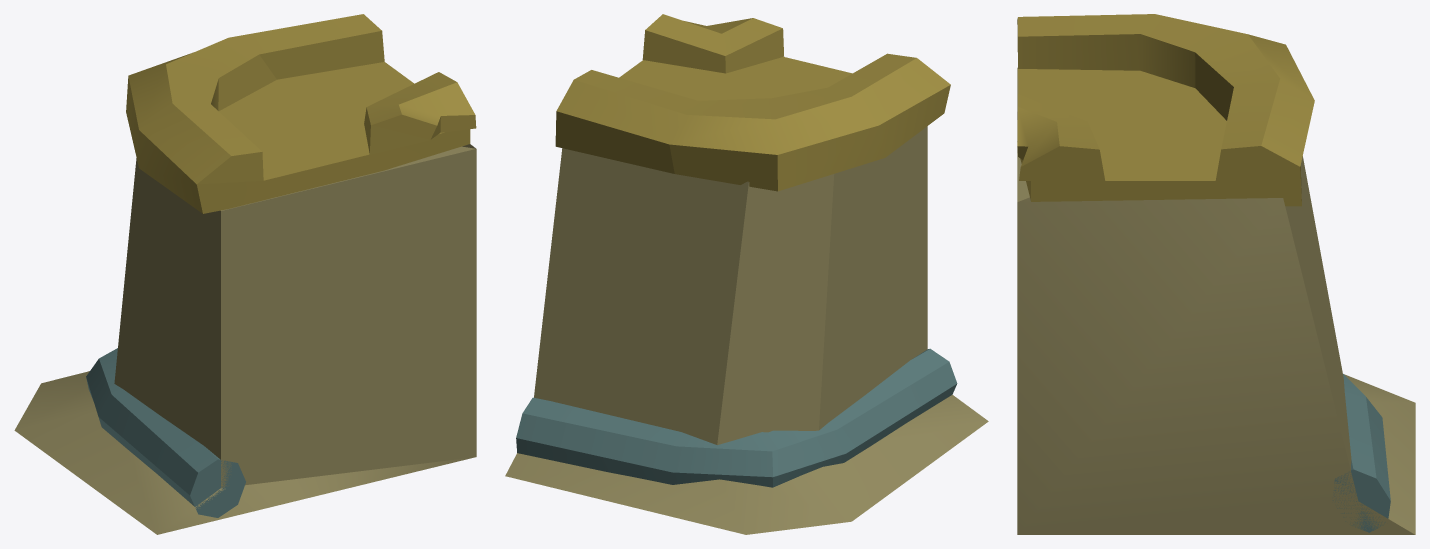
The model's file is Int_15_2_Wall_Right_Down_Diagonal.fbx.
3 views of the same model, side by side, from view 1: azimuth 30°, elevation 25°; view 2: azimuth 150°, elevation 25°; view 3: azimuth 270°, elevation 25° (orthographic). The views are drawn at different scales.
Visible parts, largest first — view 1: Int_15_2_Wall_Right_Down_Diagonal1; view 2: Int_15_2_Wall_Right_Down_Diagonal1; view 3: Int_15_2_Wall_Right_Down_Diagonal1.
Boxes of the visible parts, box(x1,y1,x2,y2) form: Int_15_2_Wall_Right_Down_Diagonal1: box(14, 14, 476, 534); Int_15_2_Wall_Right_Down_Diagonal1: box(505, 14, 988, 534); Int_15_2_Wall_Right_Down_Diagonal1: box(1017, 14, 1415, 534).
Bounding box in the file's own units: 1 × 1.09 × 1.
